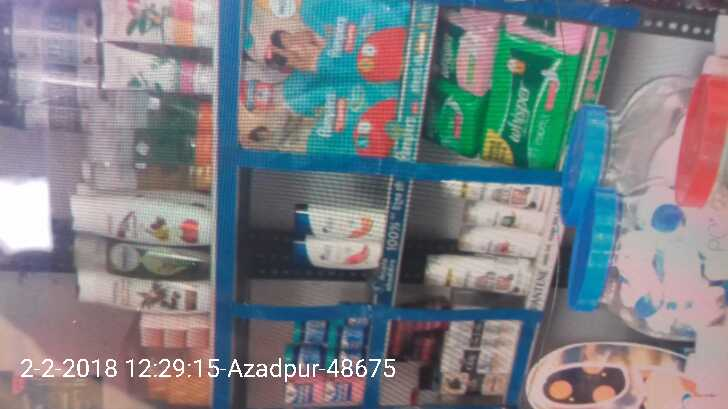vicks: (280, 316, 371, 406)
